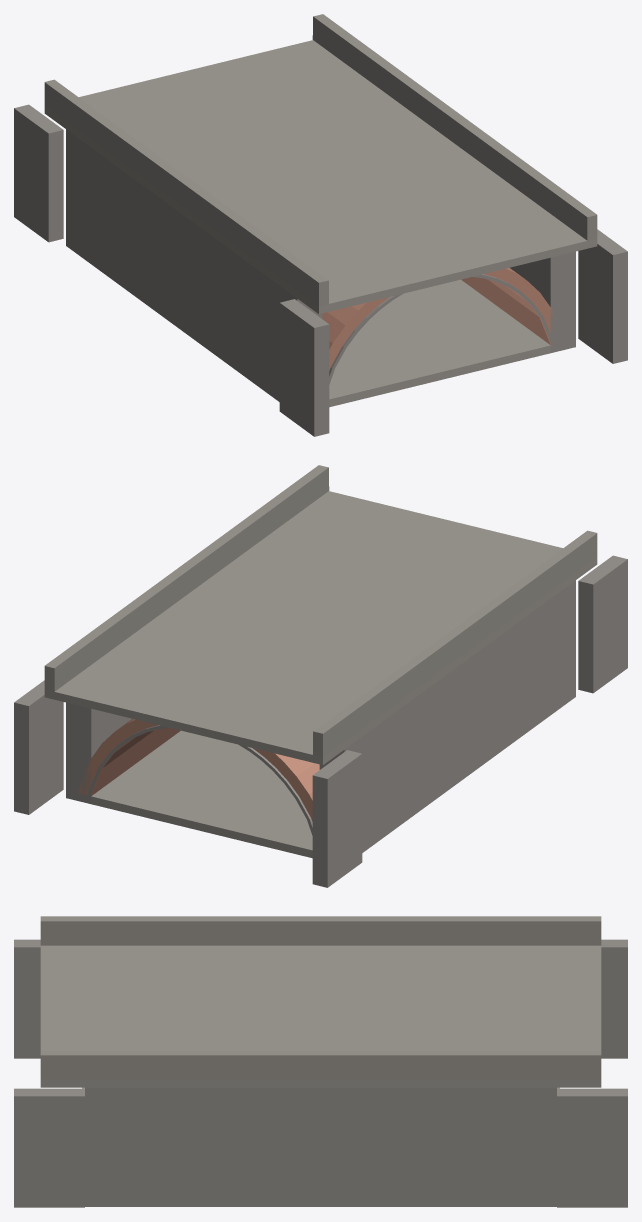
The model's file is cp_riftstone_arch.glb.
3 renders of one model, top to bottom at view 1: azimuth 30°, elevation 25°; view 2: azimuth 150°, elevation 25°; view 3: azimuth 270°, elevation 25°, orthographic. The views are drawn at different scales.
Visible parts, largest first — view 1: RiftstoneArch; view 2: RiftstoneArch; view 3: RiftstoneArch.
Part boxes in pixels (bbox=[...]): RiftstoneArch: bbox=[14, 14, 627, 436]; RiftstoneArch: bbox=[14, 465, 627, 887]; RiftstoneArch: bbox=[14, 916, 627, 1207].
Bounding box in the file's own units: 12.54 × 5.66 × 20.8.
